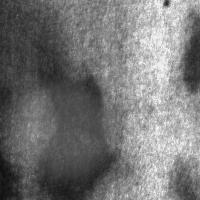patches: (14, 80, 118, 184), (0, 0, 72, 120), (44, 73, 106, 197), (165, 155, 199, 200), (183, 14, 200, 92), (1, 155, 22, 200)
